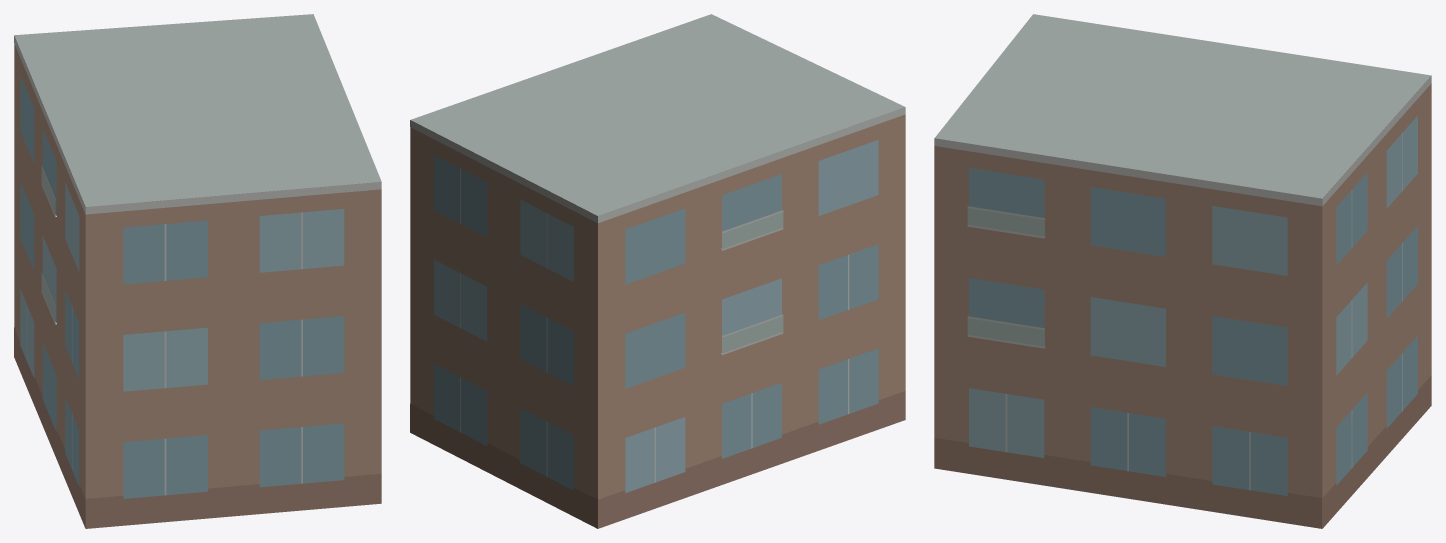
File: survey-upis-33003069.glb
3 views of the same model, side by side, from view 1: azimuth 30°, elevation 25°; view 2: azimuth 150°, elevation 25°; view 3: azimuth 270°, elevation 25° (orthographic). The views are drawn at different scales.
Parts seen in each view (by area): view 1: survey-upis-33003069.tmp; view 2: survey-upis-33003069.tmp; view 3: survey-upis-33003069.tmp.
Part boxes in pixels (x1=…): survey-upis-33003069.tmp: x1=14, y1=14, x2=381, y2=528; survey-upis-33003069.tmp: x1=410, y1=14, x2=905, y2=528; survey-upis-33003069.tmp: x1=934, y1=14, x2=1431, y2=528.
Bounding box in the file's own units: 12.6 × 10.5 × 14.34.
